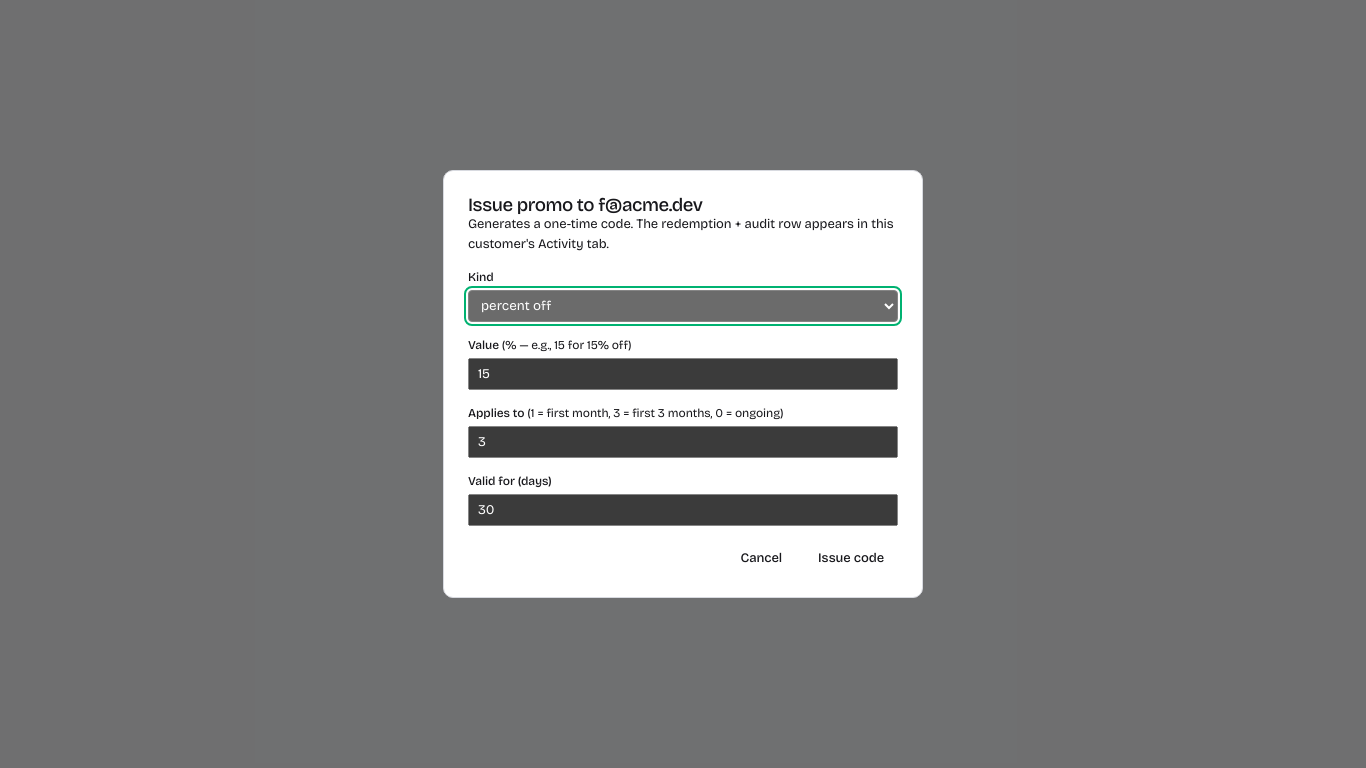
it: IssuePromoModal › surfaces an issuance error
Step 1. Click the button with test id "promo-submit" → x=851, y=559, box [804,544,898,573]
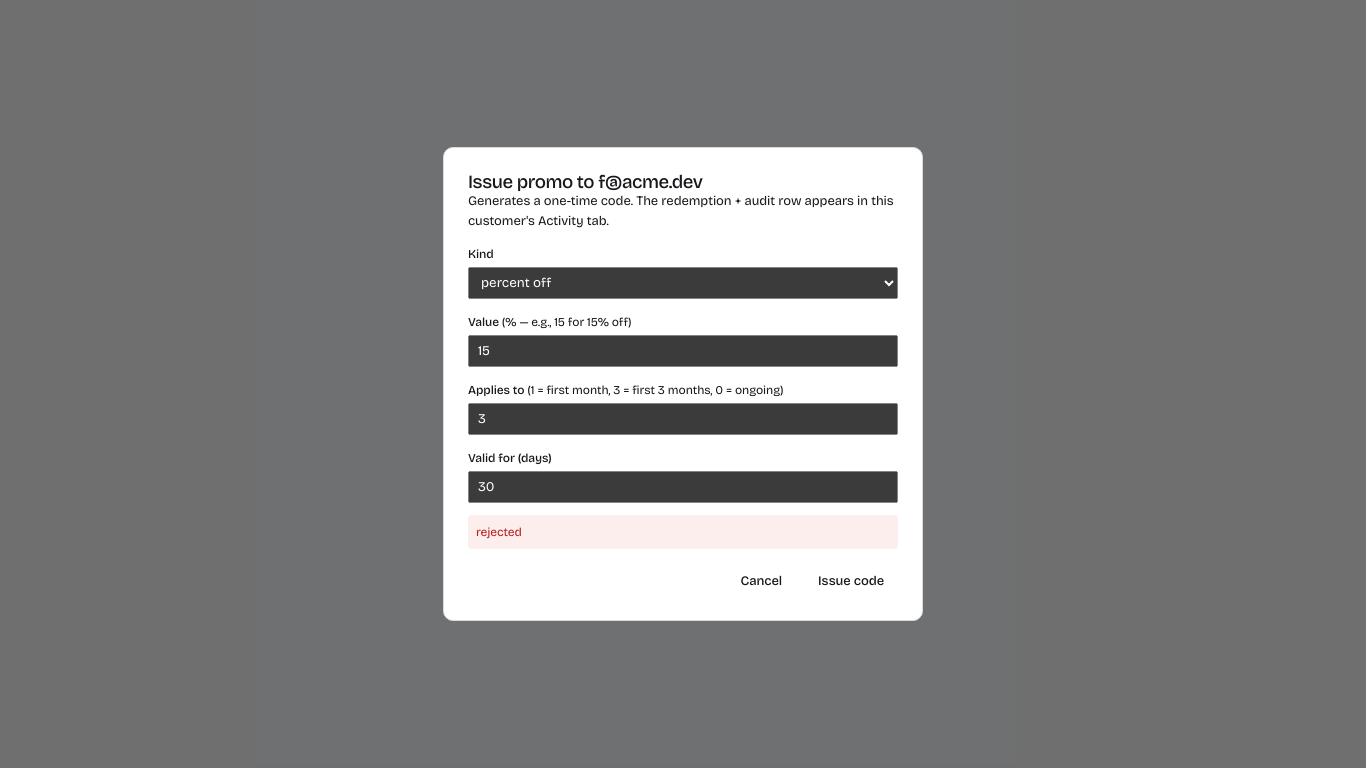
Result: the message with test id "promo-error" reads "rejected" at [476,525,522,539]
